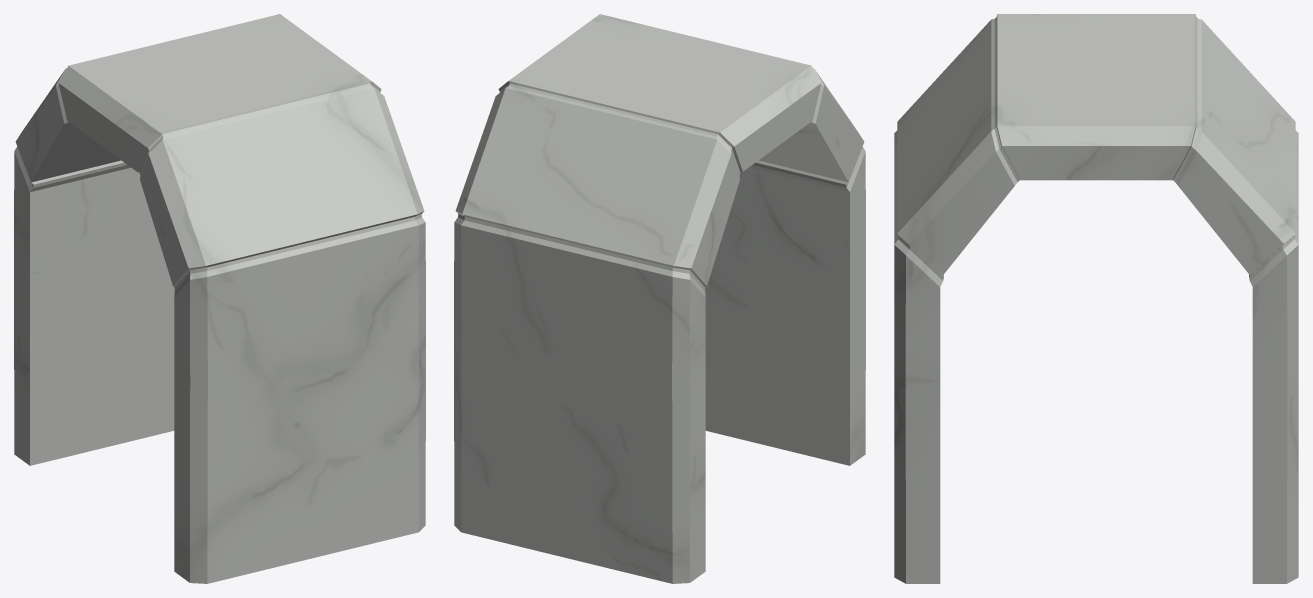
Rendered from SM_Doorframe.fbx.
The picture shows the model from 3 angles, left to right: view 1: azimuth 30°, elevation 25°; view 2: azimuth 150°, elevation 25°; view 3: azimuth 270°, elevation 25°; orthographic projection. The views are drawn at different scales.
Parts seen in each view (by area): view 1: SM_Doorframe; view 2: SM_Doorframe; view 3: SM_Doorframe.
Part boxes in pixels (x1,y1,x2,y2): SM_Doorframe: (14,14,425,583); SM_Doorframe: (454,14,865,583); SM_Doorframe: (894,14,1298,583).
Bounding box in the file's own units: 1.85 × 3.13 × 2.54.
